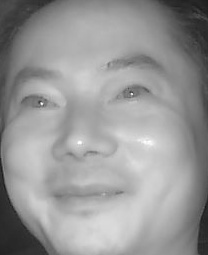eye: (106, 83, 154, 108), (19, 90, 62, 117)
mouth: (49, 172, 130, 217)
